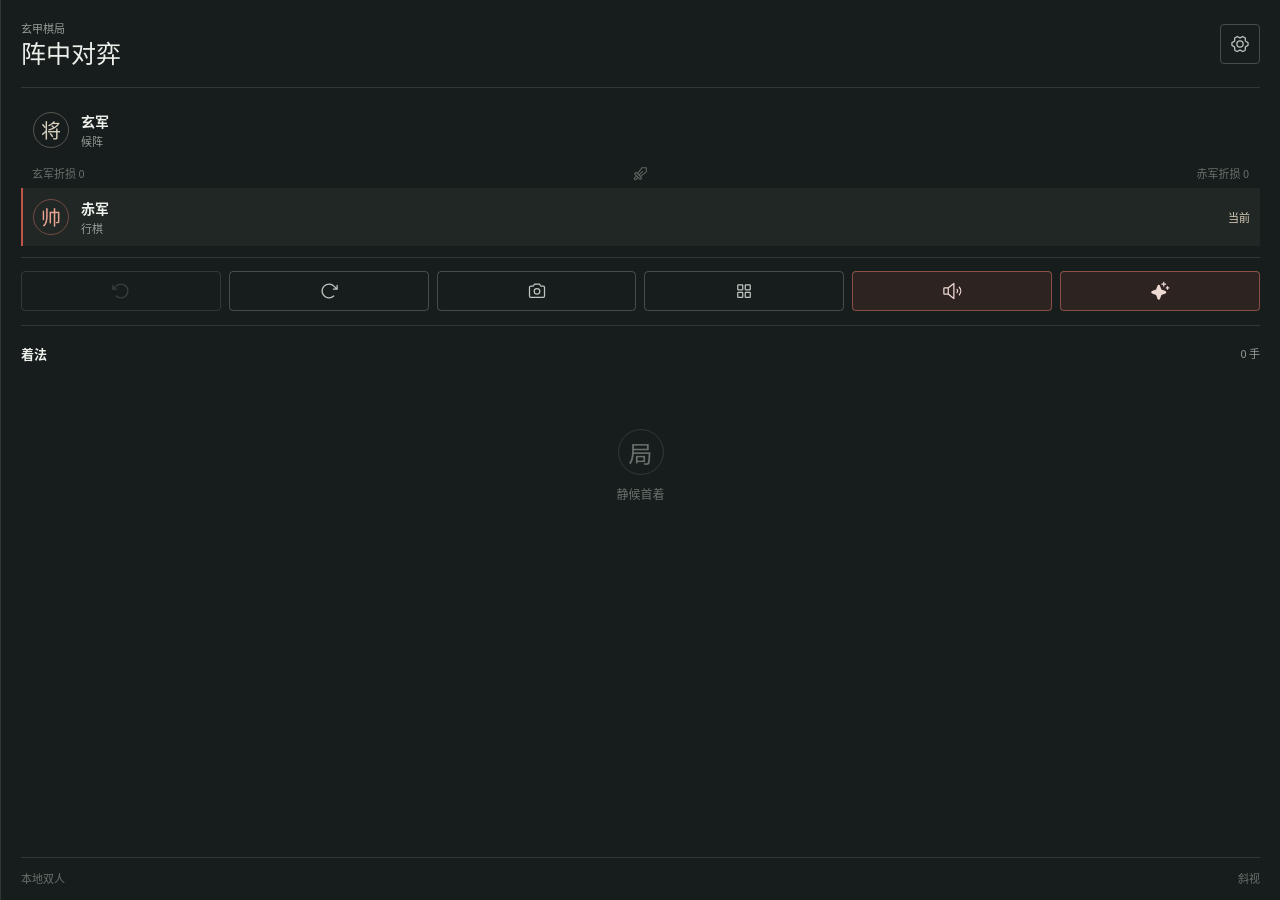
Test: game record tools › imports a FEN through the dialog and reports rejected input
Click the button named "打开设置" at (1240, 44), box [1220,24,1260,64]
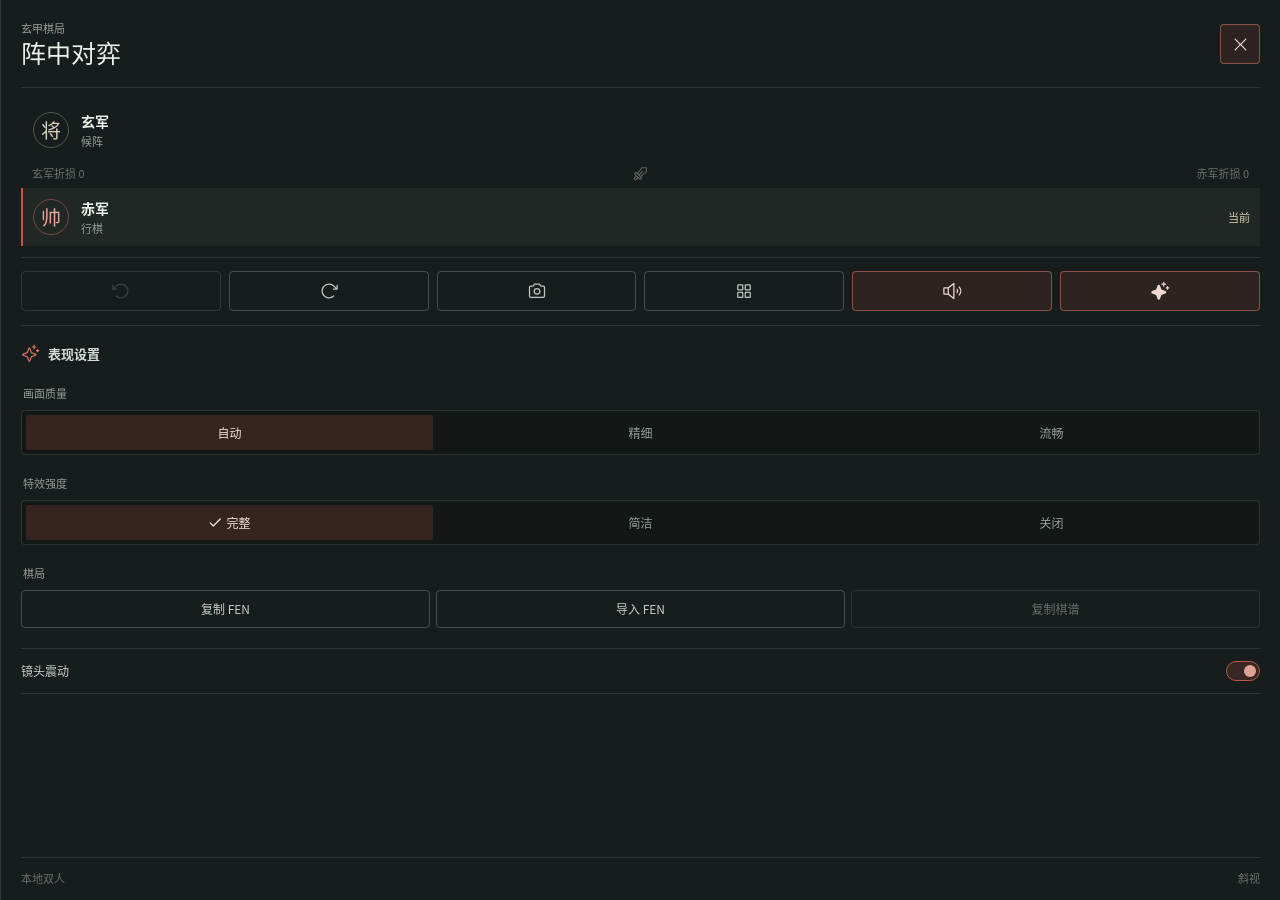
Click the button "导入 FEN" at (640, 608), box [436,590,845,628]
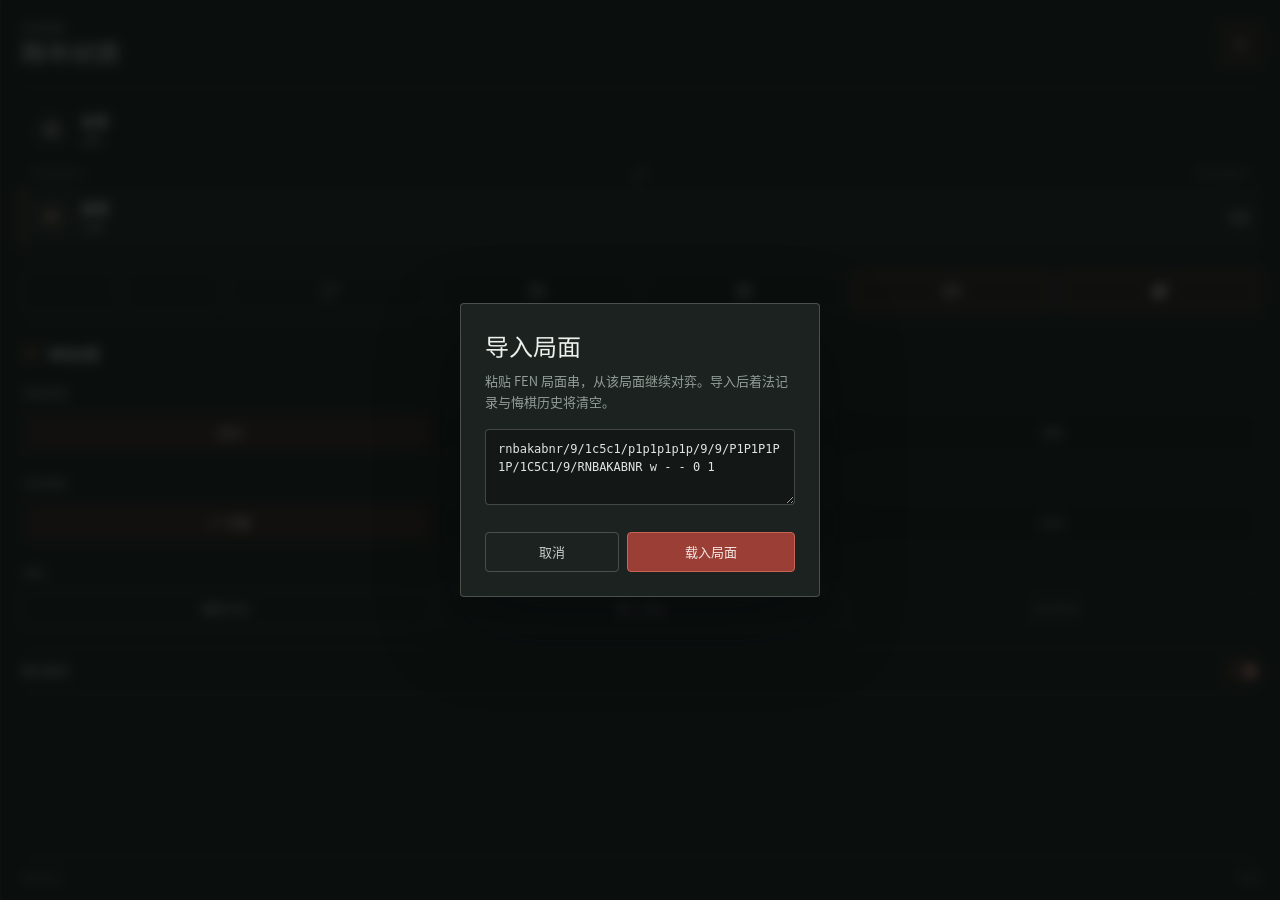
Expected: the text box named "FEN 局面串" holds "rnbakabnr/9/1c5c1/p1p1p1p1p/9/9/P1P1P1P1P/1C5C1/9/RNBAKABNR w - - 0 1", [485,429,795,505]
Click the button "载入局面" at (711, 552), box [627,532,795,572]
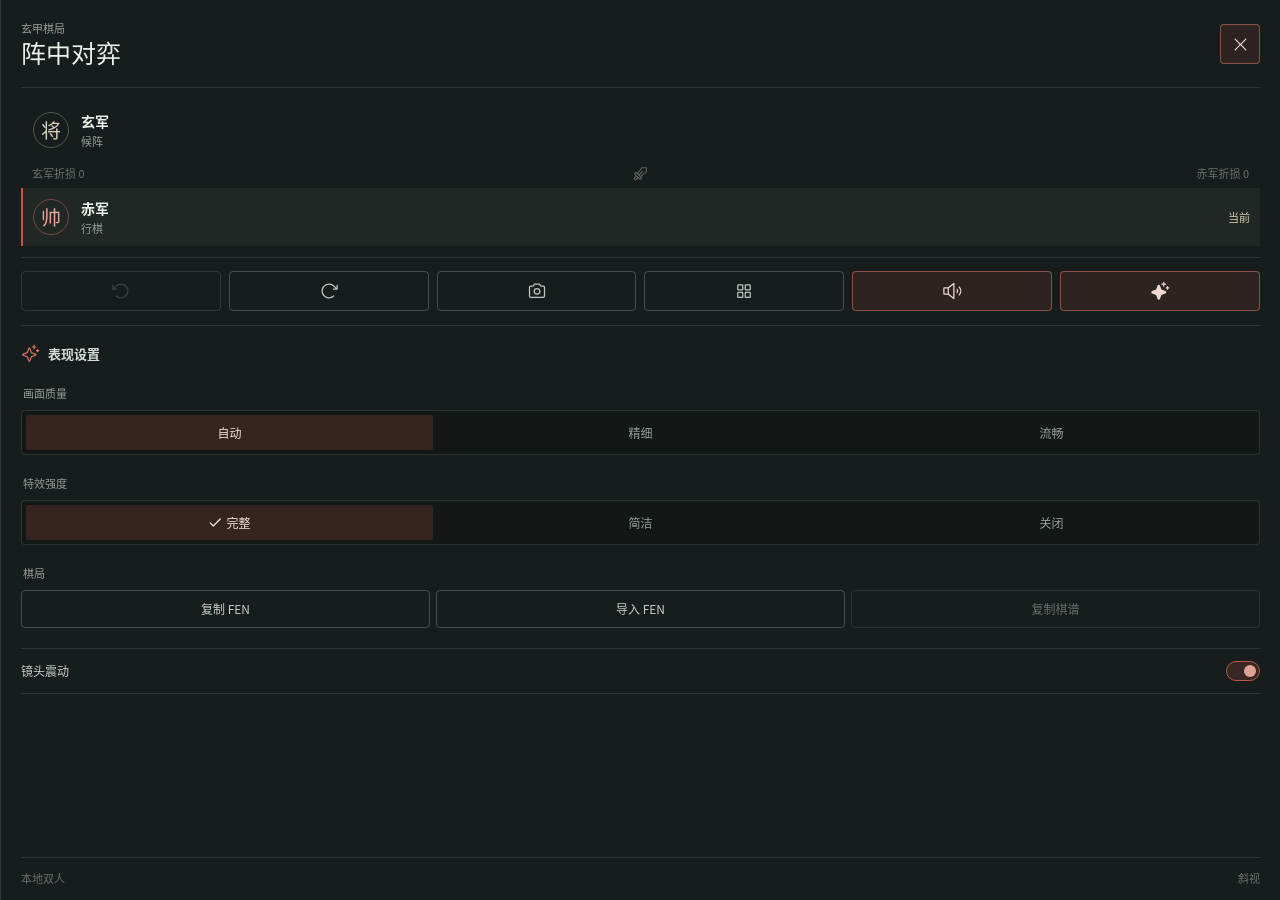
Expected: the dialog is gone
Click the button "导入 FEN" at (640, 608), box [436,590,845,628]
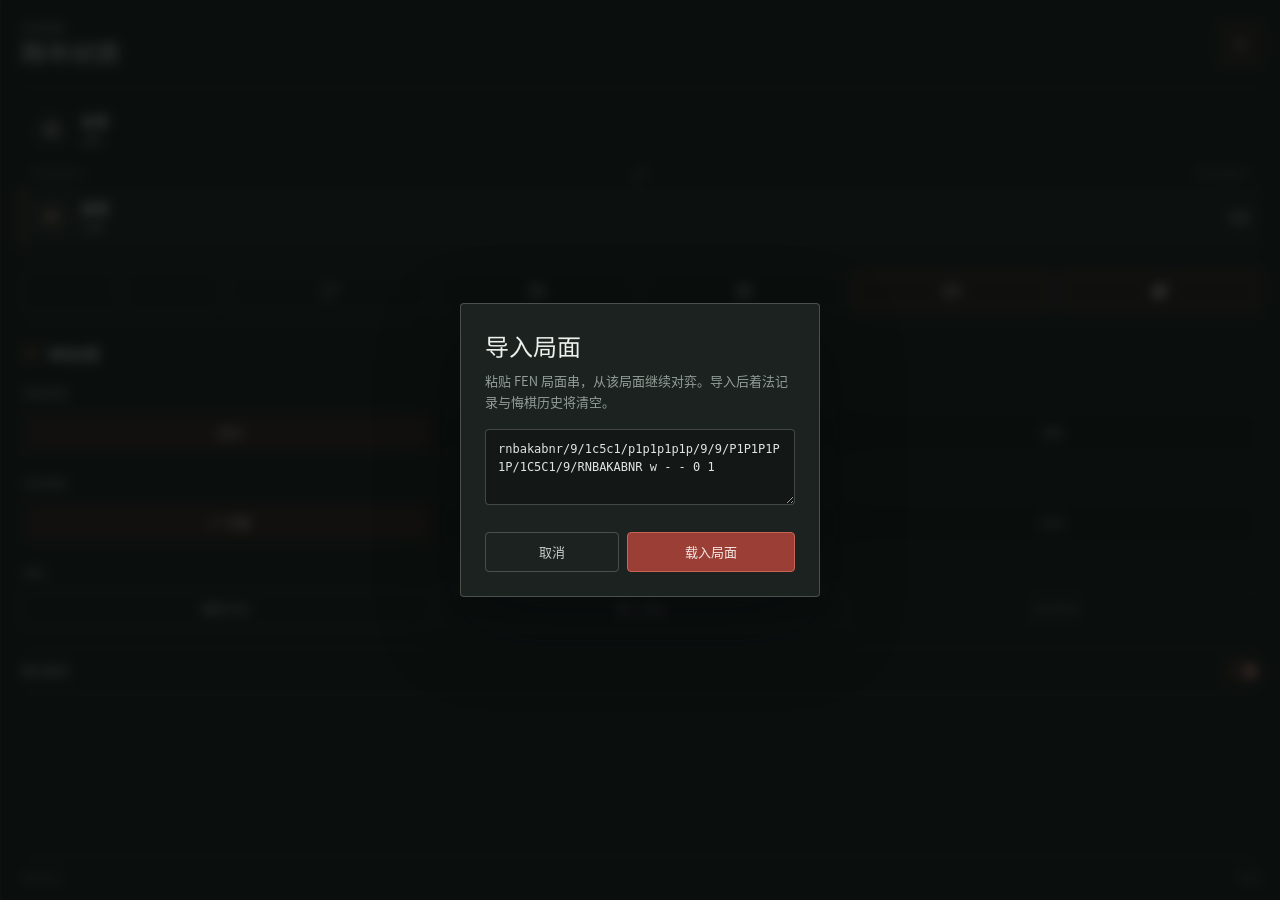
Replace the text in the text box named "FEN 局面串" with "broken" at (640, 467), box [485,429,795,505]
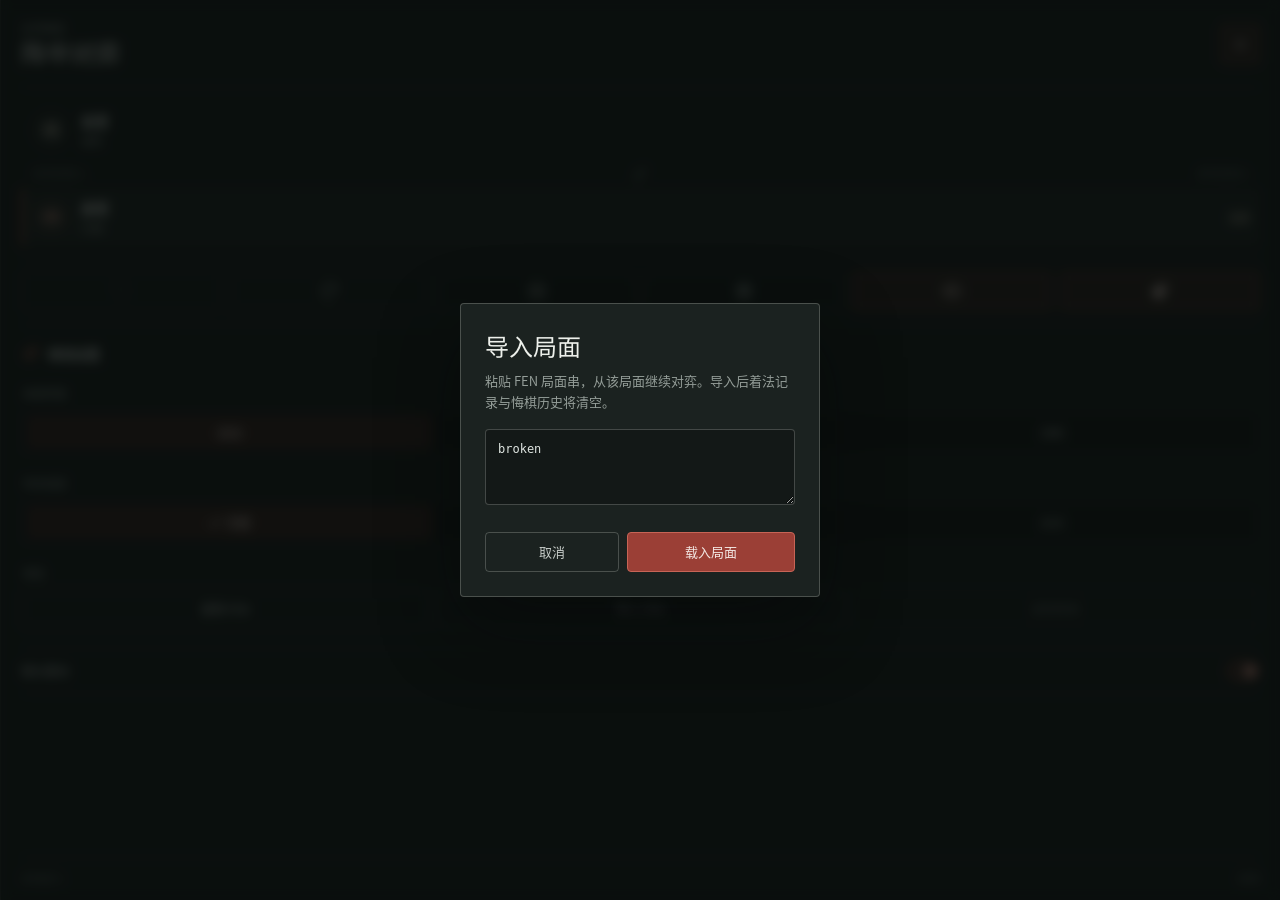
Click the button "载入局面" at (711, 552), box [627,532,795,572]
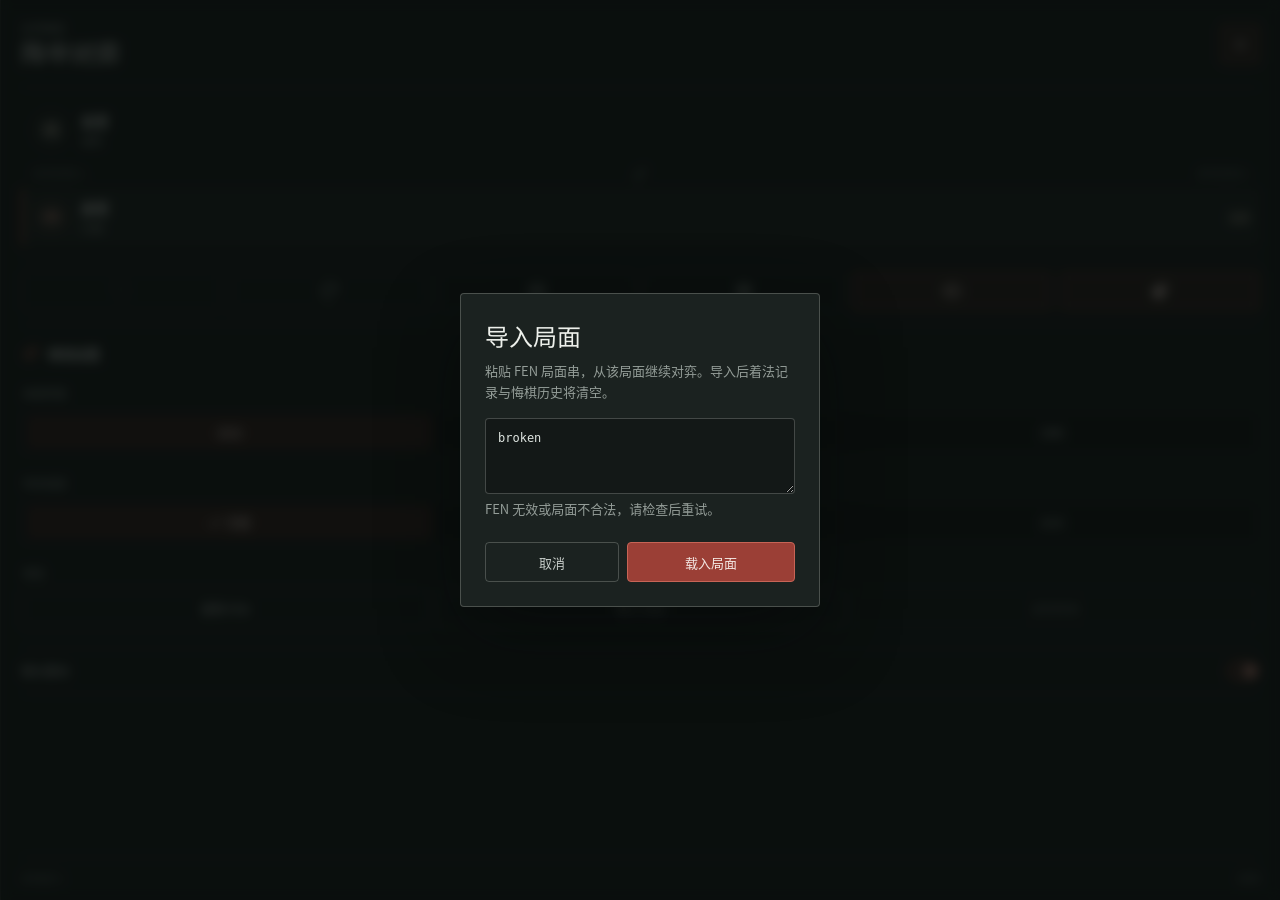
Expected: the message shows "FEN 无效", [485,499,720,518]
